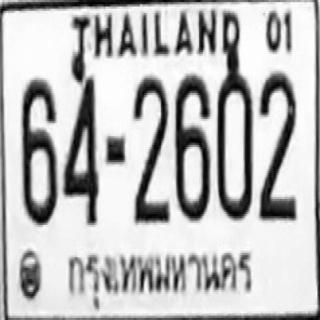N00: (216, 67, 252, 218)
N02: (257, 69, 296, 218), (132, 75, 169, 222)
N04: (63, 68, 99, 224)
N06: (21, 77, 57, 224), (175, 72, 210, 220)
P04: (58, 243, 256, 307)
